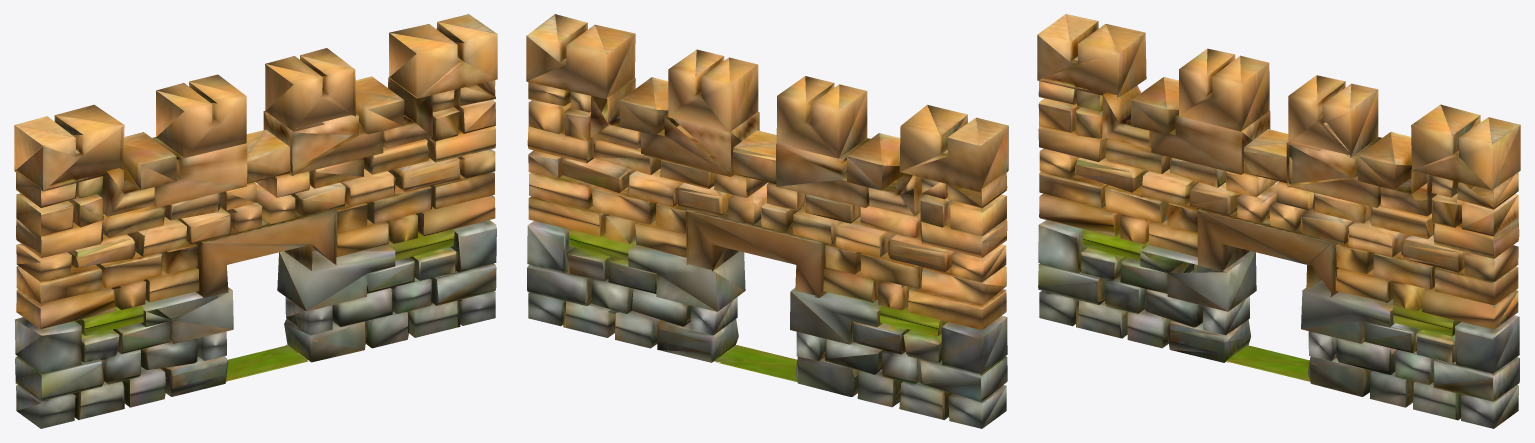
Rendered from battlement.lod1.glb.
The picture shows the model from 3 angles, left to right: view 1: azimuth 30°, elevation 25°; view 2: azimuth 150°, elevation 25°; view 3: azimuth 330°, elevation 25°; orthographic projection.
Bounding box in the file's own units: 2 × 1.2 × 0.25.
1 material, 1 textured.
